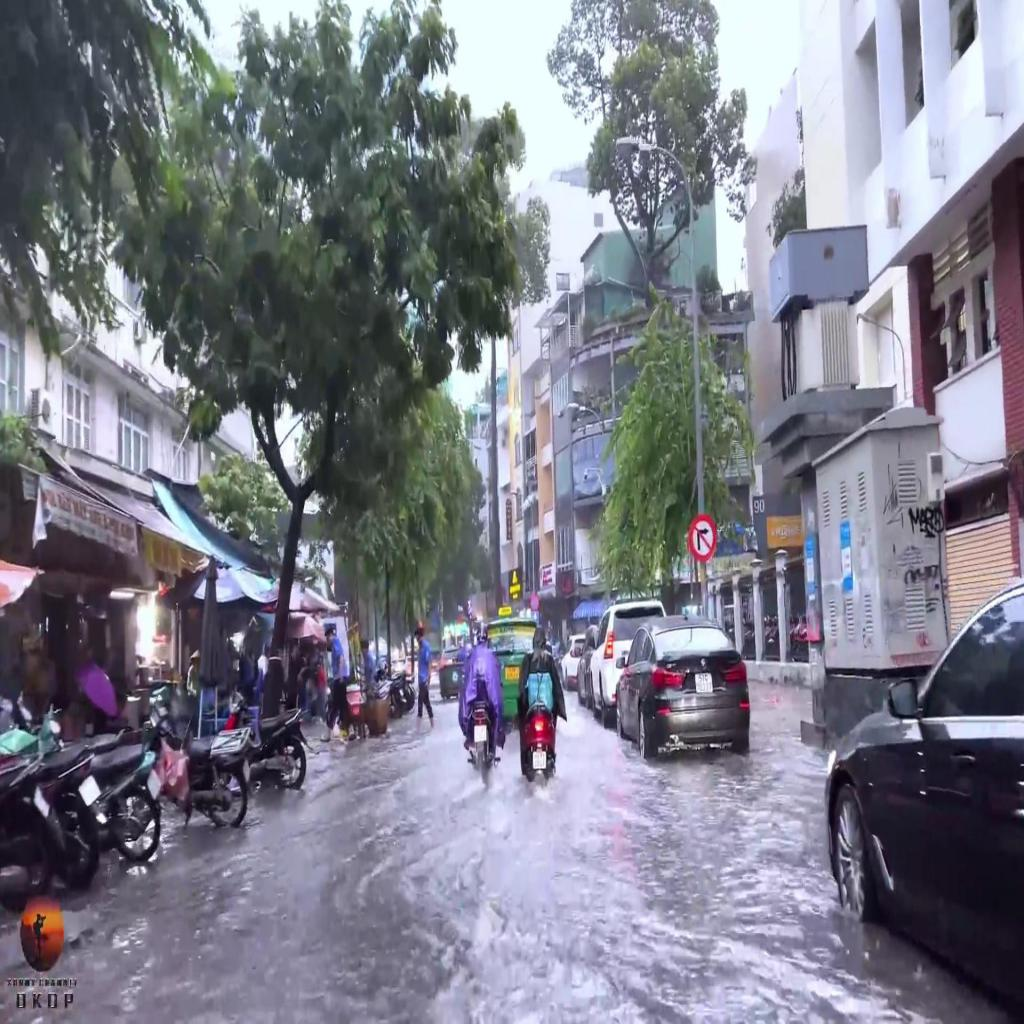cam_re_phai: (688, 513, 717, 562)
